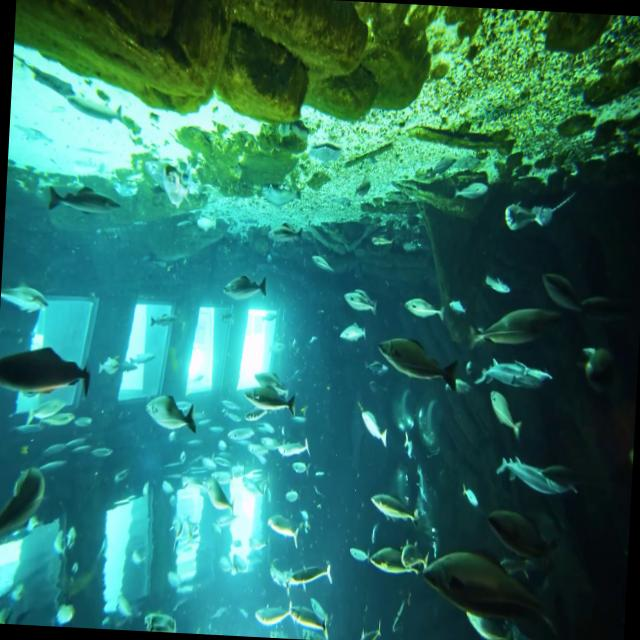fish: (414, 540, 570, 634), (468, 296, 560, 355), (0, 347, 92, 402), (377, 333, 460, 392), (496, 452, 577, 496), (0, 462, 46, 538), (49, 182, 122, 220), (476, 358, 555, 391), (146, 389, 197, 440), (371, 548, 438, 578), (244, 383, 298, 418), (223, 268, 270, 304), (369, 491, 416, 526), (404, 292, 446, 326), (287, 563, 333, 590)
